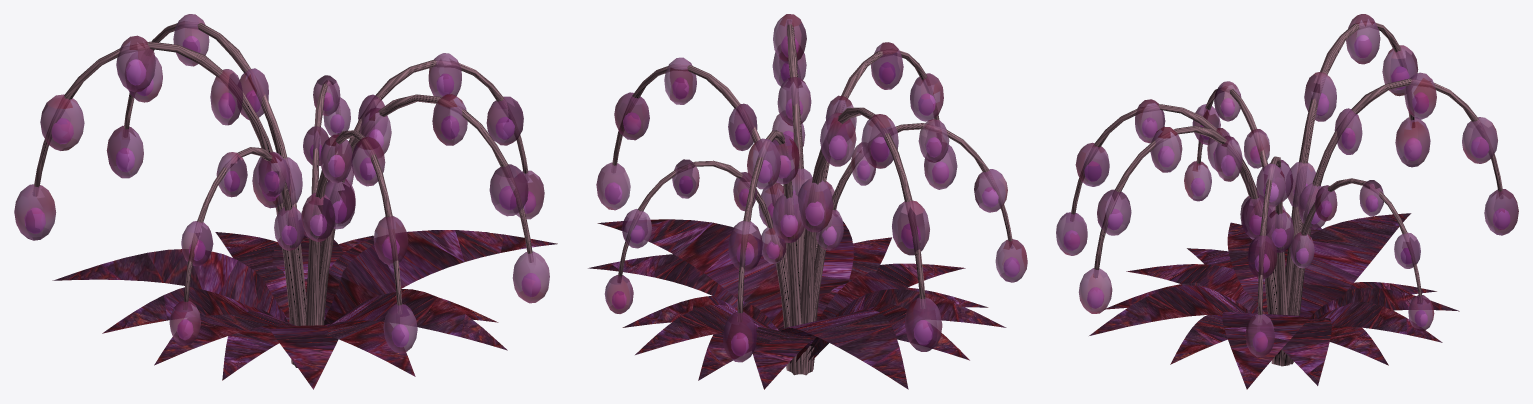
Rendered from bladder_01.glb.
The picture shows the model from 3 angles, left to right: view 1: azimuth 30°, elevation 25°; view 2: azimuth 150°, elevation 25°; view 3: azimuth 270°, elevation 25°; orthographic projection. The views are drawn at different scales.
Visible parts, largest first — view 1: export; view 2: export; view 3: export.
Boxes of the visible parts, x1,y1,x2,y2 form: export: [14, 14, 557, 389]; export: [588, 14, 1027, 389]; export: [1056, 14, 1518, 389].
Size of the model in its own units: 1.48 by 1.03 by 1.49.
4 materials, 4 textured.
